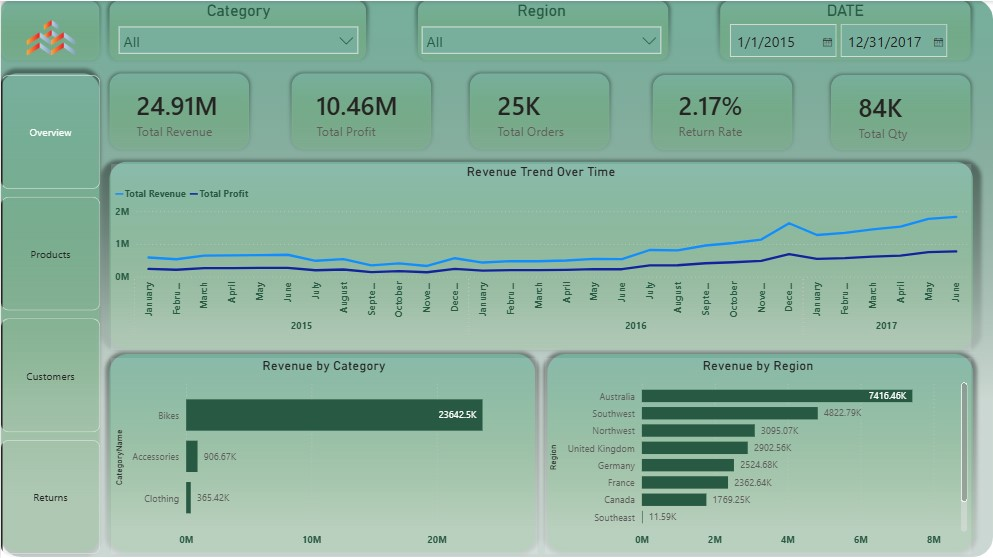

The dashboard page shown, as its layout file describes it:
{"tool":"powerbi","page":{"name":"Overview","canvas":[1280,720],"ordinal":0},"visuals":[{"type":"cardVisual","fields":{"Data":["Measure.Total Revenue"]},"box":[141.8,95.8,178.9,100.1],"z":1000},{"type":"cardVisual","fields":{"Data":["Measure.Total Profit"]},"box":[374.8,96,178.7,100],"z":2000},{"type":"cardVisual","fields":{"Data":["Measure.Total Orders"]},"box":[607.7,96,178.7,100],"z":3000},{"type":"cardVisual","fields":{"Data":["Measure.Return Rate"]},"box":[840.7,96,178.7,100],"z":4000},{"type":"lineChart","title":"Revenue Trend Over Time","fields":{"Category":["Date.Date.Variation.Date Hierarchy.Year","Date.Date.Variation.Date Hierarchy.Month"],"Y":["Measure.Total Revenue","Measure.Total Profit"]},"box":[141.7,210.1,1110,240.4],"z":5000},{"type":"barChart","title":"Revenue by Category","fields":{"Y":["Measure.Total Revenue"],"Category":["AdventureWorks_Product_Categori.CategoryName"]},"box":[141.8,460.3,549.8,253],"z":6000},{"type":"slicer","title":"Category","fields":{"Values":["AdventureWorks_Product_Categori.CategoryName"]},"box":[142.1,0,329.2,80.1],"z":7000},{"type":"slicer","title":"DATE","fields":{"Values":["Date.Date"]},"box":[928.3,0,323.3,80],"z":8000},{"type":"barChart","title":"Revenue by Region","fields":{"Y":["Measure.Total Revenue"],"Category":["AdventureWorks_Territories.Region"]},"box":[701.8,460.3,549.8,253],"z":9000},{"type":"slicer","title":"Region","fields":{"Values":["AdventureWorks_Territories.Region"]},"box":[532.4,0,329.2,80.1],"z":10000},{"type":"cardVisual","fields":{"Data":["Measure.Total Qty"]},"box":[1073.7,98.2,177.9,99.1],"z":11000},{"type":"pageNavigator","box":[0,95,128.3,618.3],"z":12000},{"type":"image","box":[0,0,128.3,95],"z":13000}]}

Visuals, with their boxes in screenshot pixels (x1, y1, x2, y2), scaled from the page's 1280x720 canvas onto the 993x558 screenshot:
cardVisual - Measure.Total Revenue: <box>110,74,249,152</box>
cardVisual - Measure.Total Profit: <box>291,74,429,152</box>
cardVisual - Measure.Total Orders: <box>471,74,610,152</box>
cardVisual - Measure.Return Rate: <box>652,74,791,152</box>
"Revenue Trend Over Time" lineChart: <box>110,163,971,349</box>
"Revenue by Category" barChart: <box>110,357,537,553</box>
"Category" slicer: <box>110,0,366,62</box>
"DATE" slicer: <box>720,0,971,62</box>
"Revenue by Region" barChart: <box>544,357,971,553</box>
"Region" slicer: <box>413,0,668,62</box>
cardVisual - Measure.Total Qty: <box>833,76,971,153</box>
pageNavigator: <box>0,74,100,553</box>
image: <box>0,0,100,74</box>
